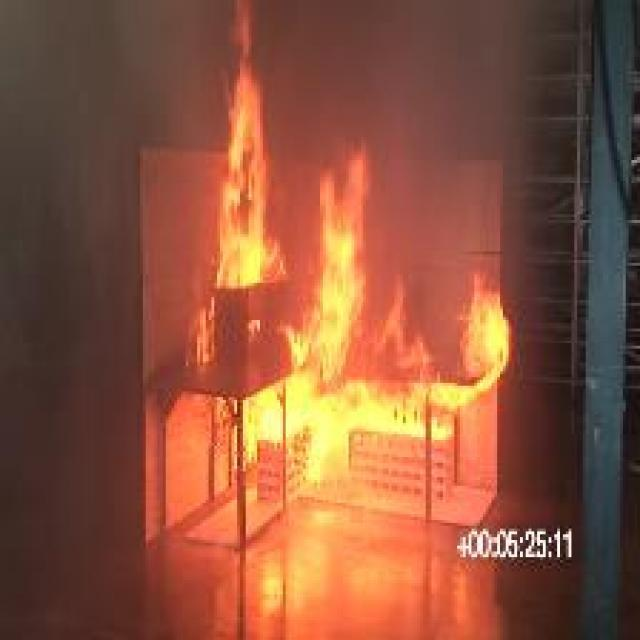Fire: (246, 142, 508, 484), (216, 2, 282, 284)
